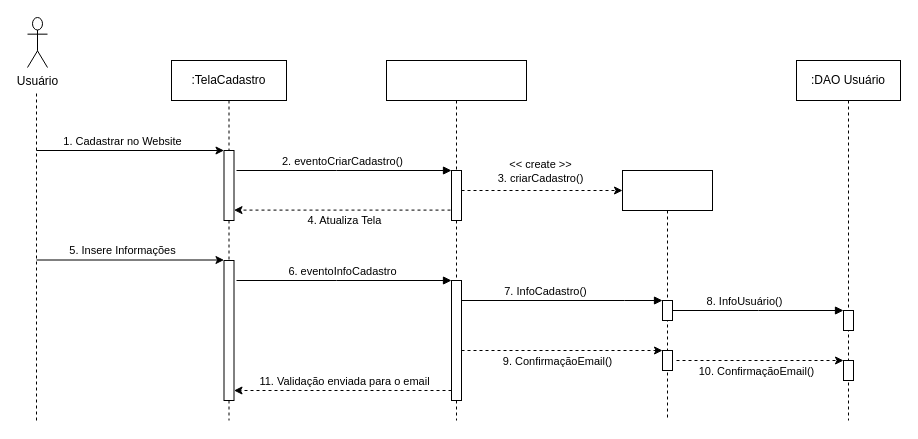
Some shapes in this 918 by 439 pixel diagram are drawn without their labels. The box of each missing label's shape, as (x1, y1, x2, y2) in pixels:
:Cadastro: (622, 170, 712, 420)
:ControladorCadastro: (386, 60, 526, 420)
